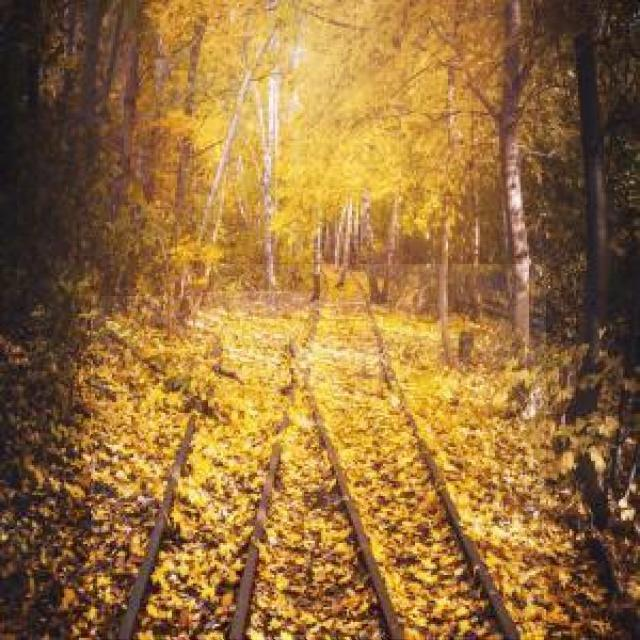rail: (216, 266, 547, 640), (93, 298, 425, 640)
